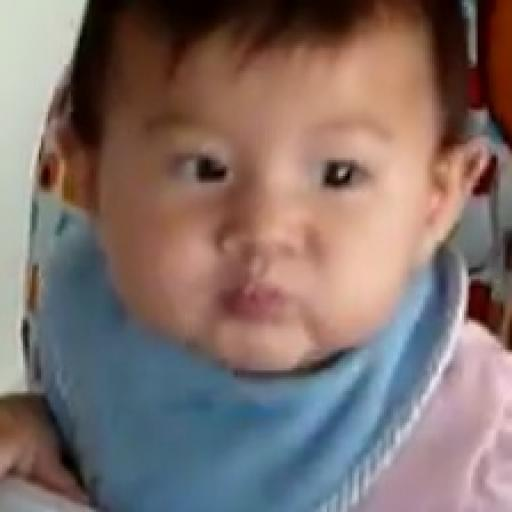Autism: (49, 0, 512, 380)
